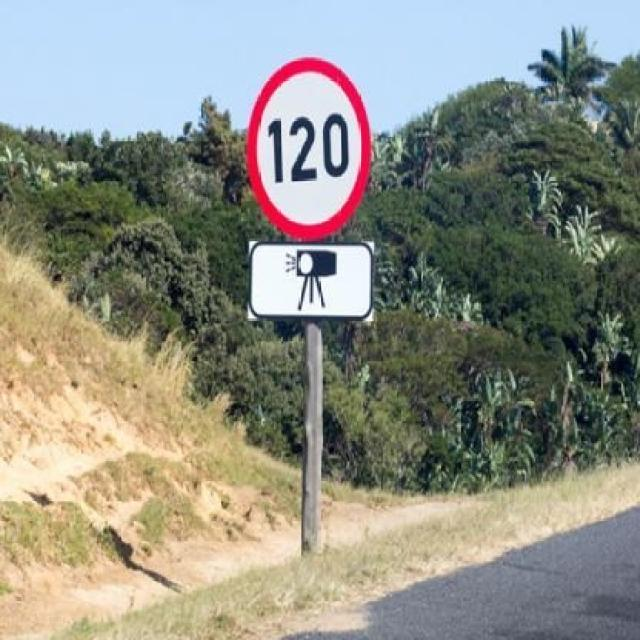forb_speed_over_120: (251, 58, 367, 236)
